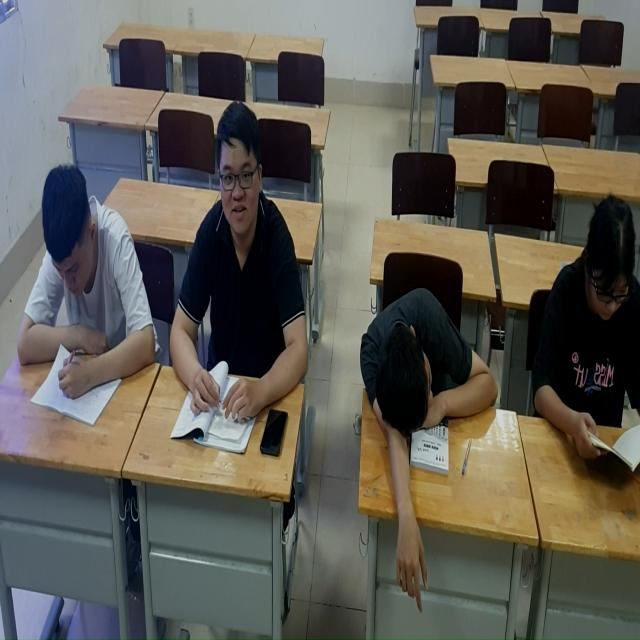read: (164, 93, 316, 472), (7, 156, 156, 438), (514, 204, 640, 502)
sleep: (350, 250, 505, 606)
